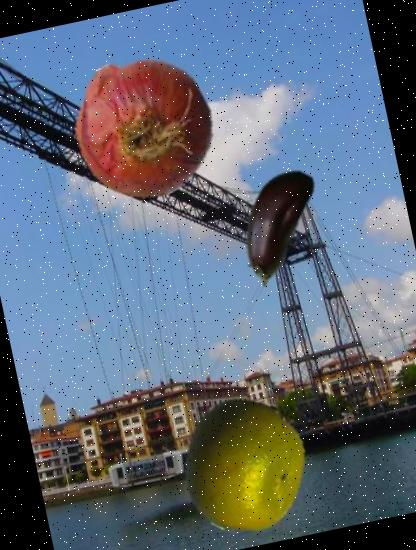Eggplant: (199, 150, 346, 297)
Onion: (58, 40, 230, 212)
Pomelo: (165, 387, 323, 545)
